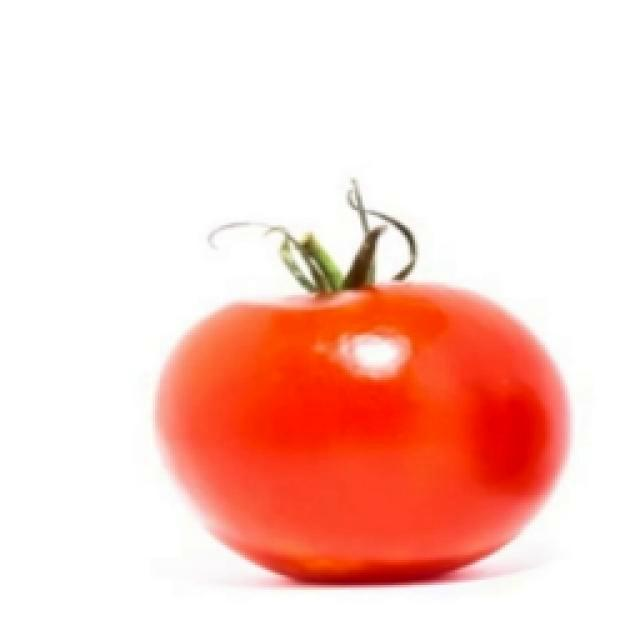tomato: (152, 243, 574, 586)
